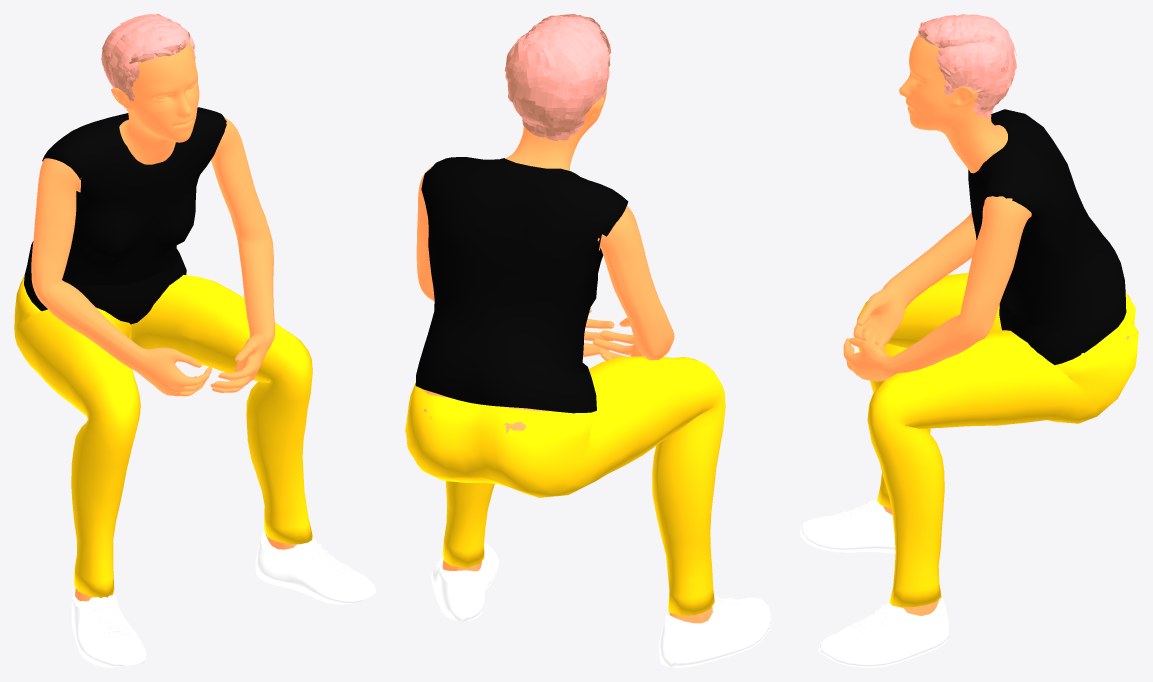
Rendered from Woman_02_Sitting-transformed.glb.
The picture shows the model from 3 angles, left to right: view 1: azimuth 30°, elevation 25°; view 2: azimuth 150°, elevation 25°; view 3: azimuth 270°, elevation 25°; orthographic projection. The views are drawn at different scales.
Parts seen in each view (by area): view 1: Bottoms, Body, Top, Shoes, Hair; view 2: Top, Bottoms, Body, Hair, Shoes; view 3: Bottoms, Top, Body, Shoes, Hair.
Part boxes in pixels (x1,y1,x2,y2): Bottoms: (14, 274, 312, 598); Body: (31, 41, 296, 601); Top: (24, 107, 226, 324); Shoes: (71, 531, 376, 667); Hair: (101, 14, 195, 110); Top: (415, 157, 628, 413); Bottoms: (405, 356, 725, 615); Body: (416, 86, 712, 623); Hair: (504, 14, 611, 140); Shoes: (431, 542, 771, 667); Bottoms: (857, 273, 1138, 607); Top: (968, 109, 1126, 364); Body: (843, 34, 1135, 615); Shoes: (800, 499, 948, 667); Hair: (918, 14, 1016, 118).
Size of the model in its own units: 0.6621 by 1.27 by 0.6816.
